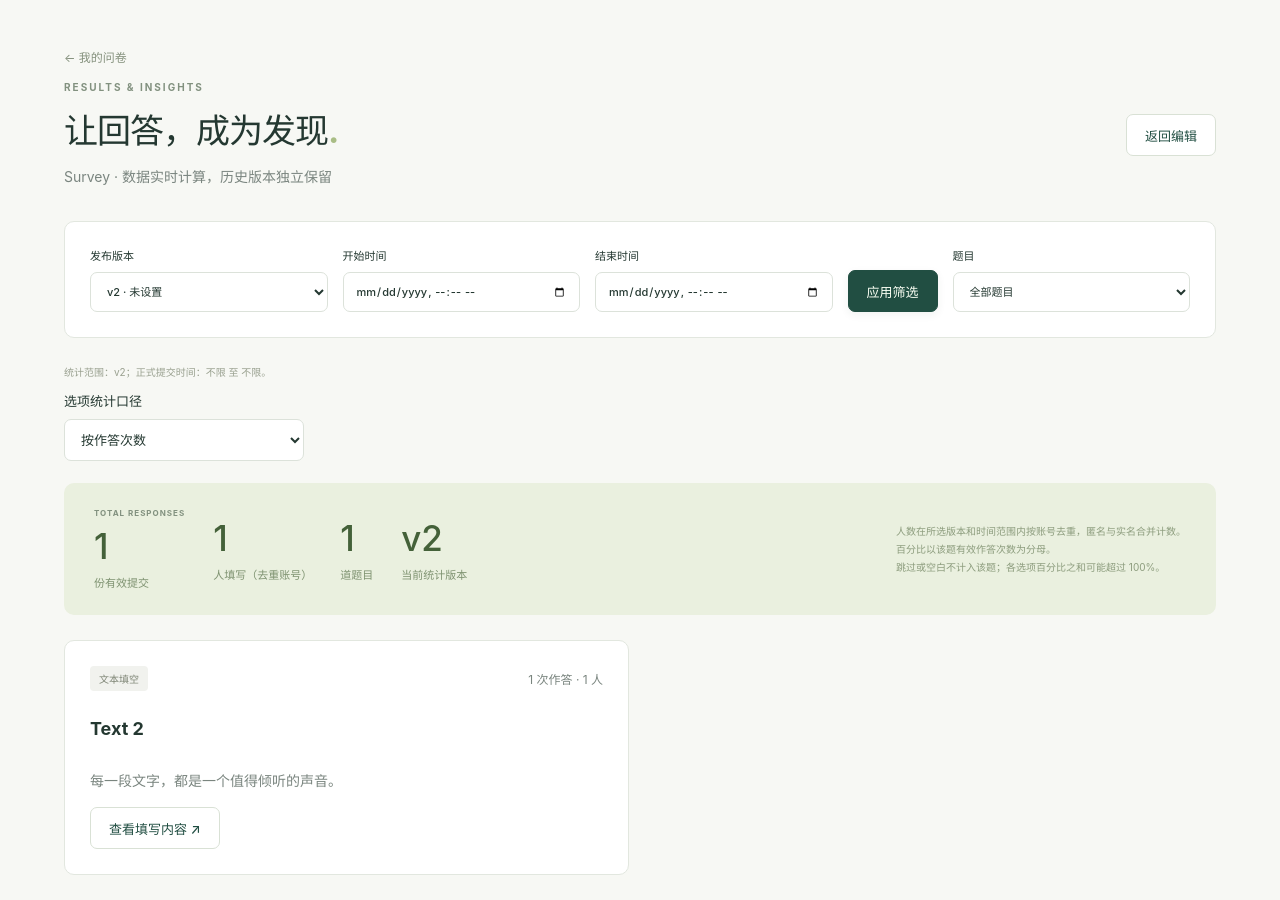
Test: latest statistics failure clears prior result
Click the button "应用筛选". click: (892, 291)
box: [848,270,938,312]
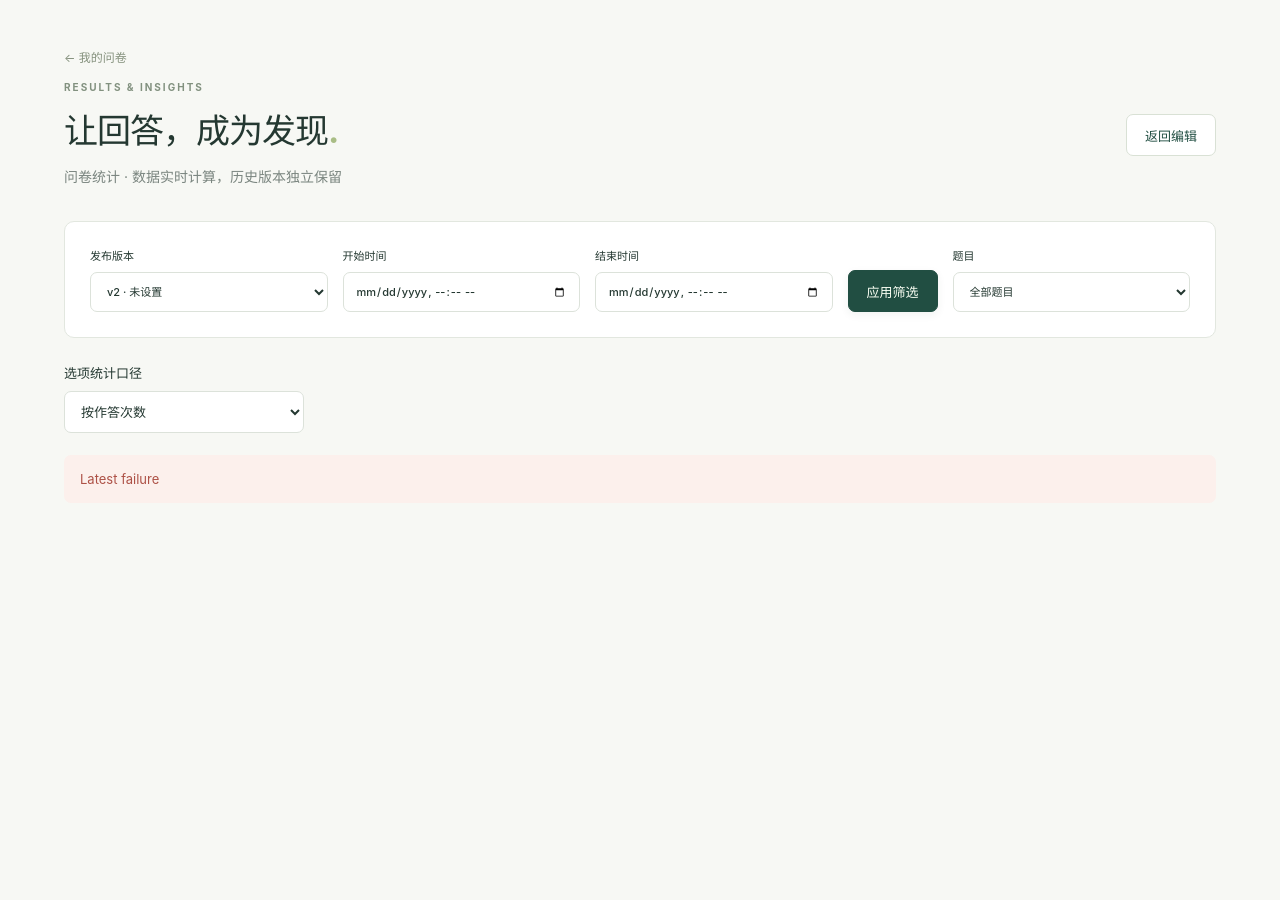
Expected: the text "Latest failure" is shown, [64,455,1216,503]
